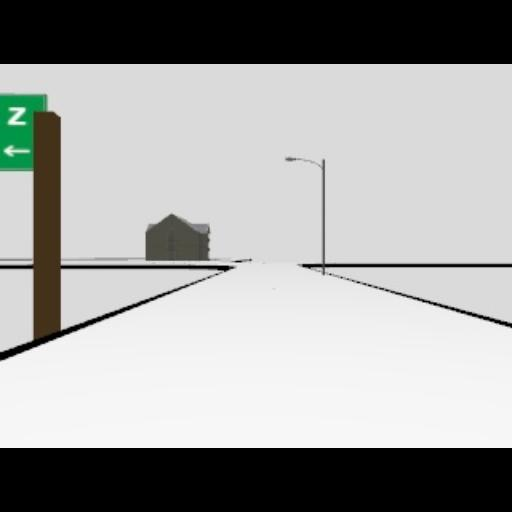Left: (2, 144, 30, 156)
Z: (8, 105, 28, 125)
